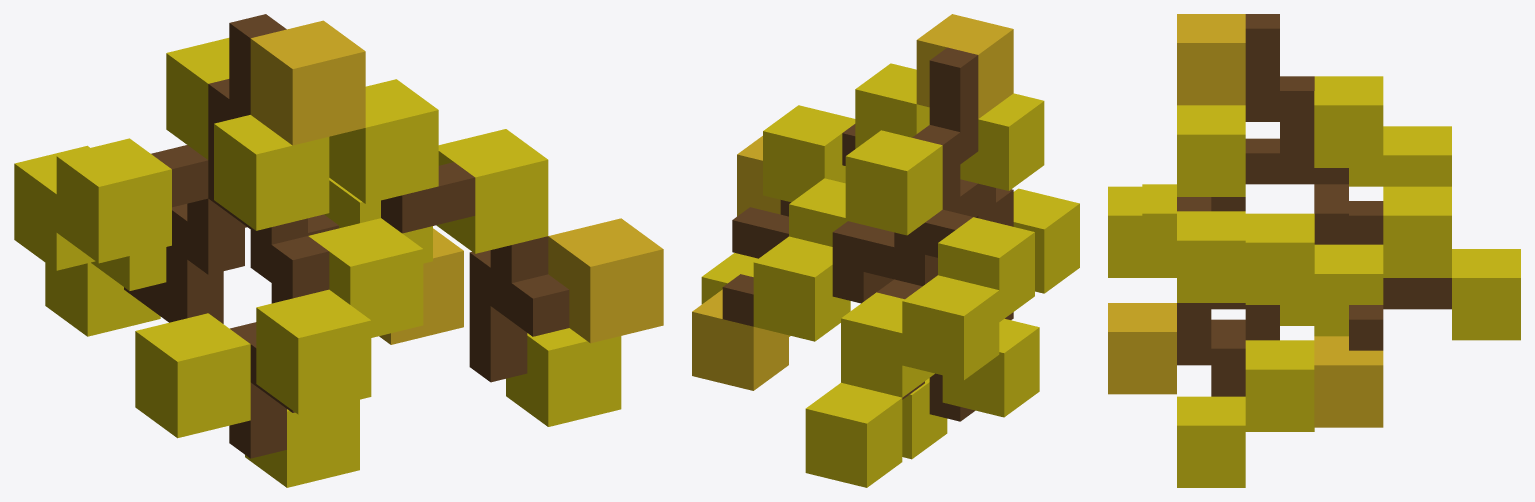
File: 1_4 caja.obj
The picture shows the model from 3 angles, left to right: view 1: azimuth 30°, elevation 25°; view 2: azimuth 150°, elevation 25°; view 3: azimuth 270°, elevation 25°; orthographic projection. The views are drawn at different scales.
Bounding box in the file's own units: 1.2 × 1.2 × 1.2.
Materials: 1 (1 with a texture image).
